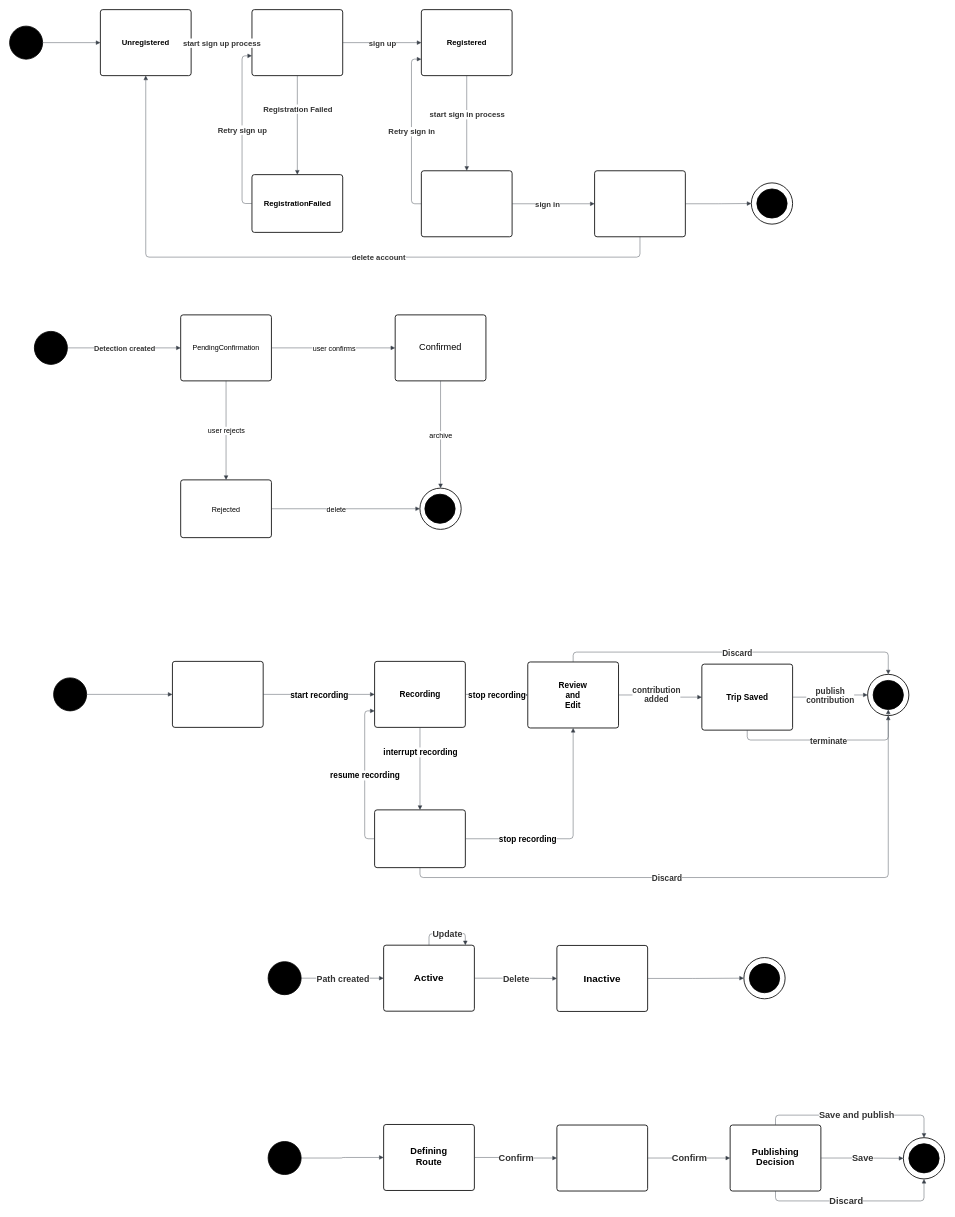
This 955x1217 diagram has some shape labels left out. The shapes that lost their labels are listed below. From the top down, each one's centre as x and y in pixels, then its label:
At pixel 297 42: "Registering".
At pixel 466 203: "Authenticating".
At pixel 640 203: "Authenticated".
At pixel 217 694: "Ready".
At pixel 420 838: "Interrupted".
At pixel 602 1157: "Annotating Obstacles".
